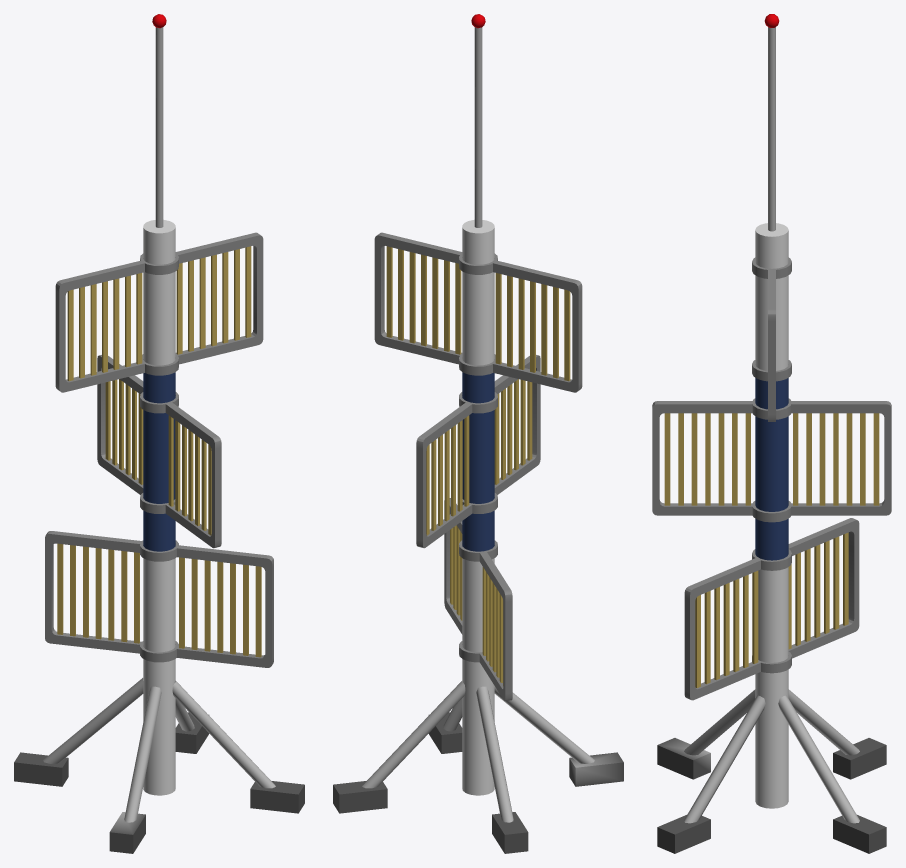
File: Repeater.fbx
3 renders of one model, left to right at view 1: azimuth 30°, elevation 25°; view 2: azimuth 150°, elevation 25°; view 3: azimuth 270°, elevation 25°, orthographic.
Parts seen in each view (by area): view 1: Base, Bottom, Top, Mid; view 2: Base, Top, Mid, Bottom; view 3: Base, Mid, Bottom, Top.
Boxes of the visible parts, x1,y1,x2,y2 form: Base: [14, 14, 304, 853]; Bottom: [45, 531, 273, 667]; Top: [55, 232, 263, 392]; Mid: [97, 355, 221, 548]; Base: [333, 14, 623, 853]; Top: [374, 232, 582, 392]; Mid: [416, 355, 540, 548]; Bottom: [444, 498, 512, 700]; Base: [657, 14, 886, 853]; Mid: [652, 398, 891, 522]; Bottom: [684, 518, 859, 700]; Top: [752, 257, 791, 421].
Bounding box in the file's own units: 187 × 684 × 187.
